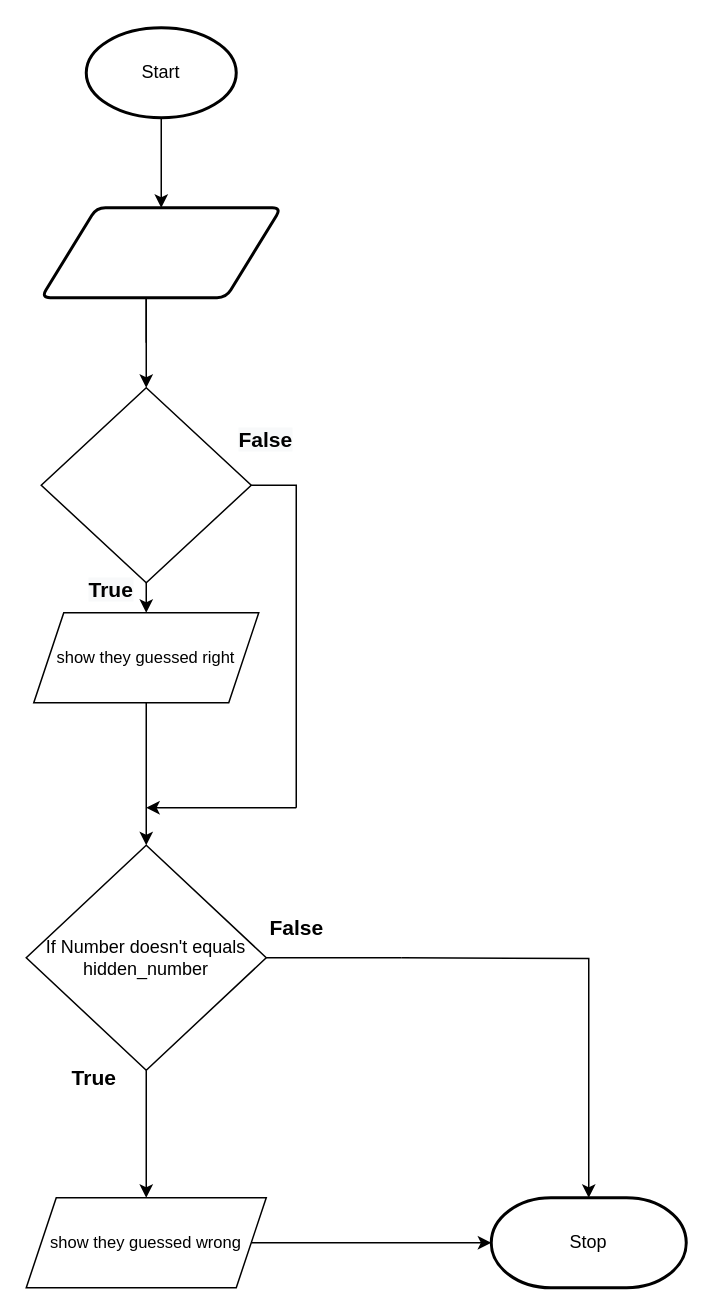
The diagram is 714 pixels wide and 1314 high, and some of its shapes have lost their labels. The centre of each missing label's shape, as x and y in pixels:
"Get Number" goes at point 160,252.
"If Number equals hidden_number" goes at point 145,484.
